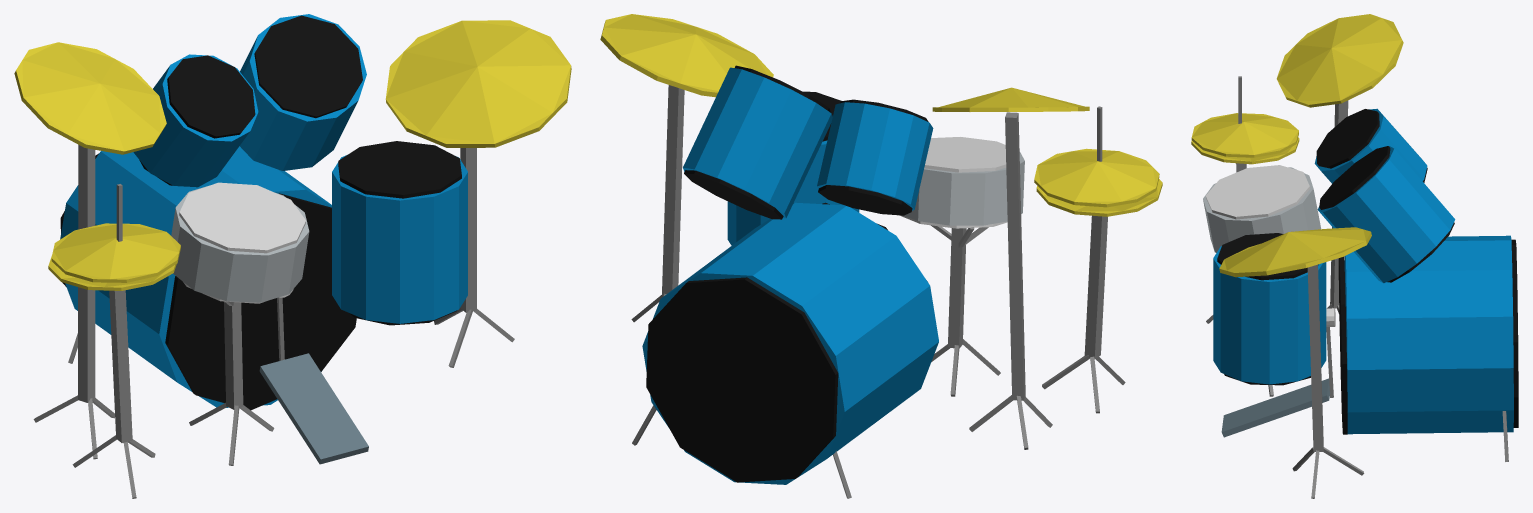
Rendered from drums.gltf.
The picture shows the model from 3 angles, left to right: view 1: azimuth 30°, elevation 25°; view 2: azimuth 150°, elevation 25°; view 3: azimuth 270°, elevation 25°; orthographic projection. The views are drawn at different scales.
Visible parts, largest first — view 1: node_MeshObject2015150080-PolyPaper21; view 2: node_MeshObject2015150080-PolyPaper21; view 3: node_MeshObject2015150080-PolyPaper21.
Part boxes in pixels (x1,y1,x2,y2): node_MeshObject2015150080-PolyPaper21: (14, 14, 571, 498); node_MeshObject2015150080-PolyPaper21: (600, 14, 1162, 498); node_MeshObject2015150080-PolyPaper21: (1191, 14, 1518, 498).
Bounding box in the file's own units: 0.7655 × 0.5337 × 0.4925.
